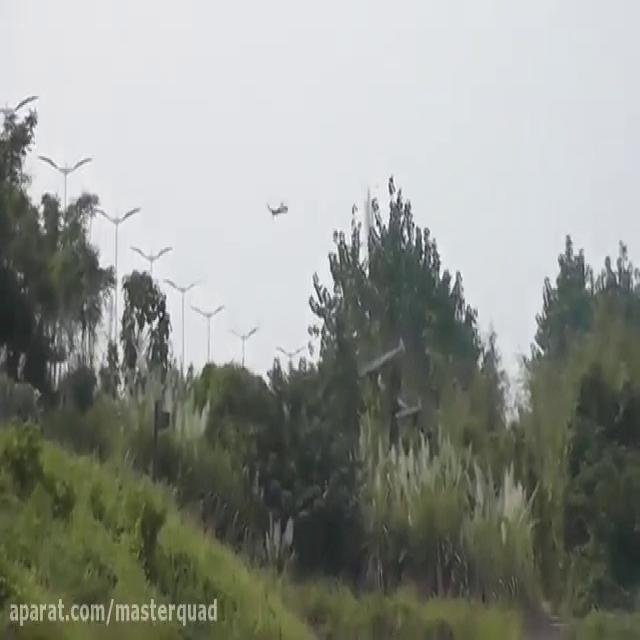drone: (262, 194, 291, 218)
